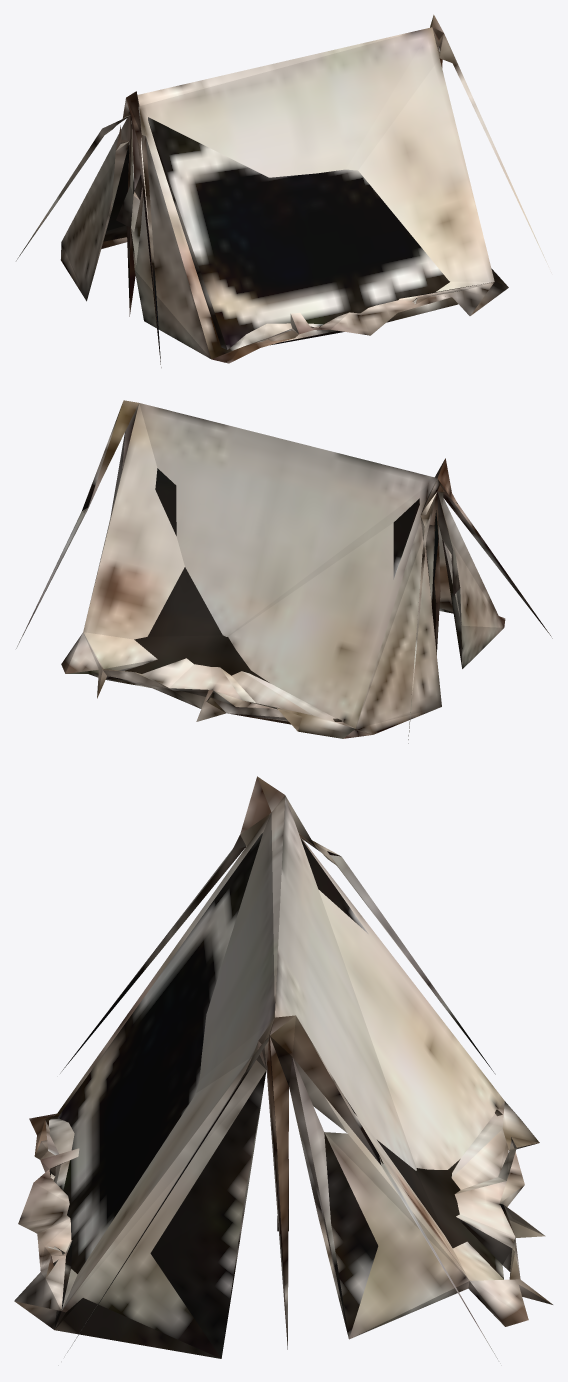
The model's file is ga3_tent_lod2.glb.
3 renders of one model, top to bottom at view 1: azimuth 30°, elevation 25°; view 2: azimuth 150°, elevation 25°; view 3: azimuth 270°, elevation 25°, orthographic. The views are drawn at different scales.
Visible parts, largest first — view 1: ga3_tent_lod2; view 2: ga3_tent_lod2; view 3: ga3_tent_lod2.
Boxes of the visible parts, box(x1,y1,x2,y2) form: ga3_tent_lod2: box(16, 14, 551, 367); ga3_tent_lod2: box(16, 400, 552, 743); ga3_tent_lod2: box(14, 776, 552, 1358).
Bounding box in the file's own units: 4.86 × 2.8 × 3.85.
Materials: 1 (1 with a texture image).
